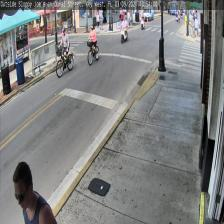person: (12, 162, 57, 224)
